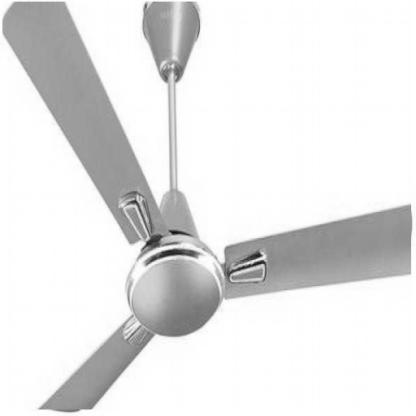ceiling-fan: (2, 2, 412, 410)
